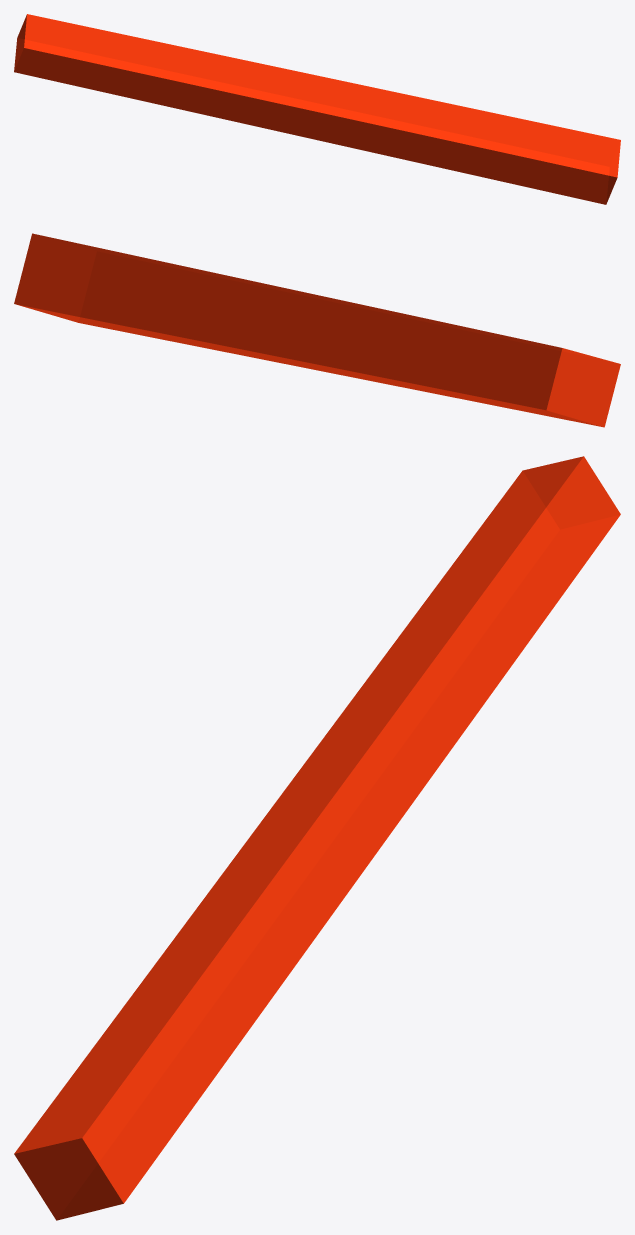
Rendered from Event_421278790_EBrechit_12.fbx.
The picture shows the model from 3 angles, top to bottom: view 1: azimuth 30°, elevation 25°; view 2: azimuth 150°, elevation 25°; view 3: azimuth 270°, elevation 25°; orthographic projection. The views are drawn at different scales.
Parts seen in each view (by area): view 1: Model; view 2: Model; view 3: Model.
Boxes of the visible parts, x1,y1,x2,y2 form: Model: [14, 14, 620, 204]; Model: [14, 233, 620, 427]; Model: [14, 456, 620, 1220].
Bounding box in the file's own units: 0.7731 × 0.3001 × 0.4532.
